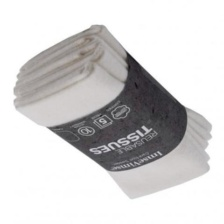tissue: (8, 20, 218, 207)
